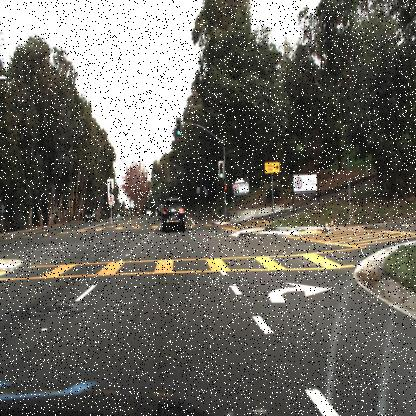car: (156, 193, 189, 239), (82, 203, 97, 227), (81, 203, 98, 224), (156, 201, 166, 217)
trafficLight-Green: (217, 159, 227, 183), (176, 115, 184, 138), (219, 166, 224, 184), (174, 126, 180, 140)
trafficLight-Red: (224, 180, 229, 192)
